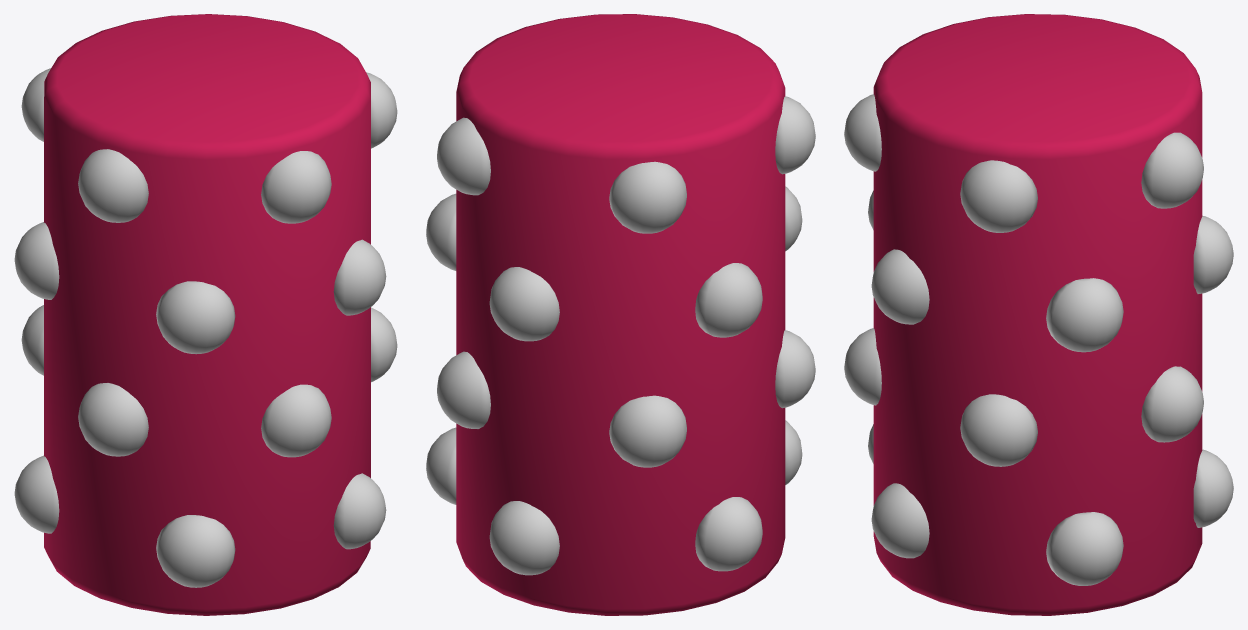
File: spoetted_cylinder_obstacle.glb
3 views of the same model, side by side, from view 1: azimuth 30°, elevation 25°; view 2: azimuth 150°, elevation 25°; view 3: azimuth 270°, elevation 25° (orthographic).
Visible parts, largest first — view 1: Cylinder, spots; view 2: Cylinder, spots; view 3: Cylinder, spots.
Boxes of the visible parts, x1,y1,x2,y2 form: Cylinder: (44,14,370,615); spots: (14,68,397,587); Cylinder: (456,14,785,615); spots: (426,96,815,575); Cylinder: (873,14,1202,615); spots: (844,94,1233,585).
Size of the model in its own units: 145 by 200 by 149.
